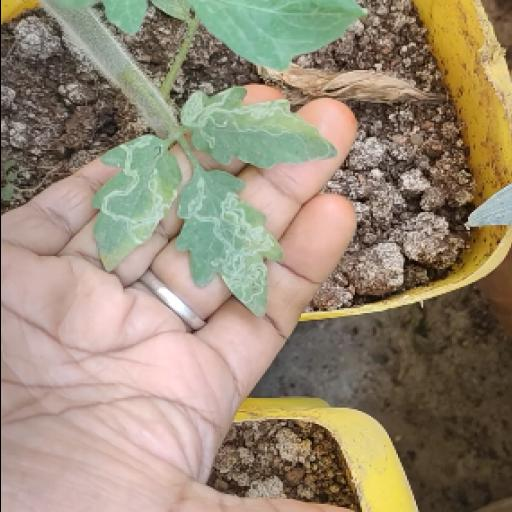Leaf Miner: (173, 171, 286, 318), (89, 132, 183, 272), (182, 85, 337, 168)
